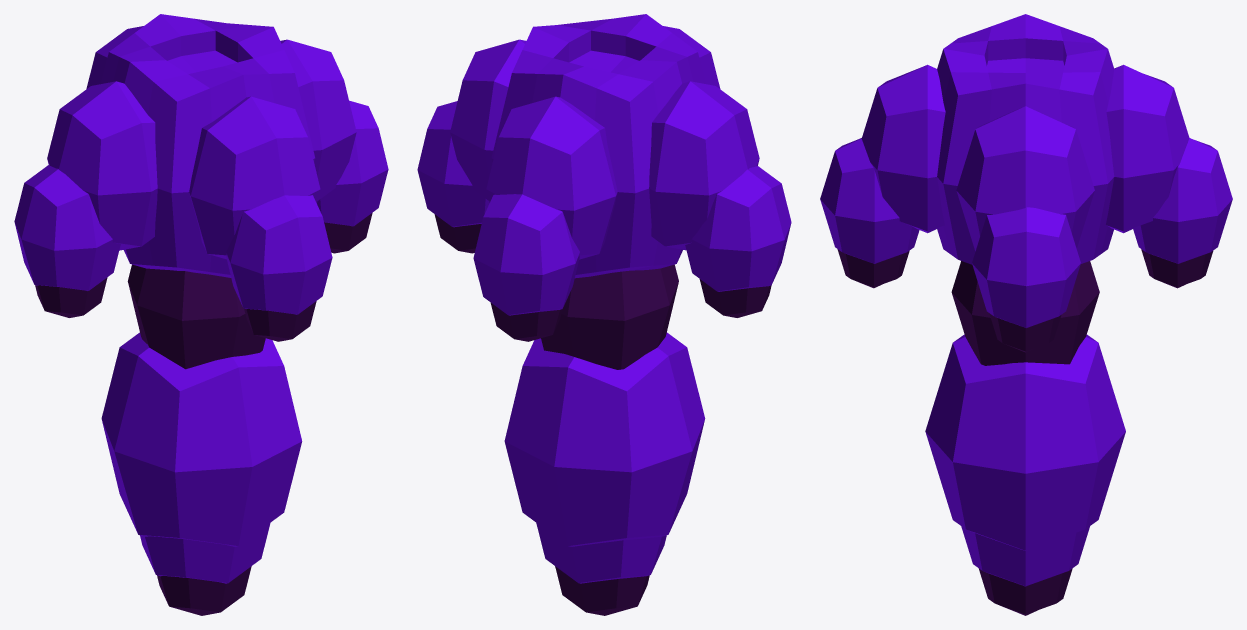
The model's file is AlienRocket.fbx.
The picture shows the model from 3 angles, left to right: view 1: azimuth 30°, elevation 25°; view 2: azimuth 150°, elevation 25°; view 3: azimuth 270°, elevation 25°; orthographic projection.
Visible parts, largest first — view 1: Alien Rocket; view 2: Alien Rocket; view 3: Alien Rocket.
Part boxes in pixels (x1,y1,x2,y2): Alien Rocket: (14, 14, 388, 615); Alien Rocket: (417, 14, 791, 615); Alien Rocket: (820, 14, 1232, 615).
Size of the model in its own units: 337 by 511 by 337.
